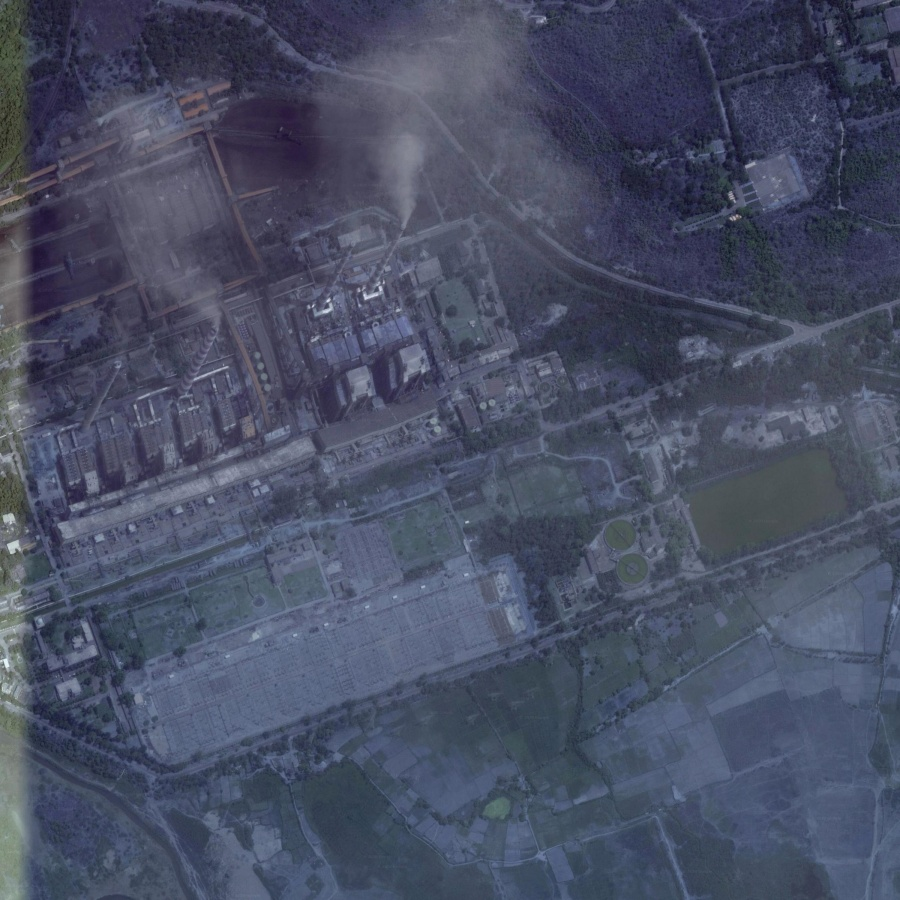PowerPlant: (54, 76, 509, 489), (674, 427, 856, 575)
